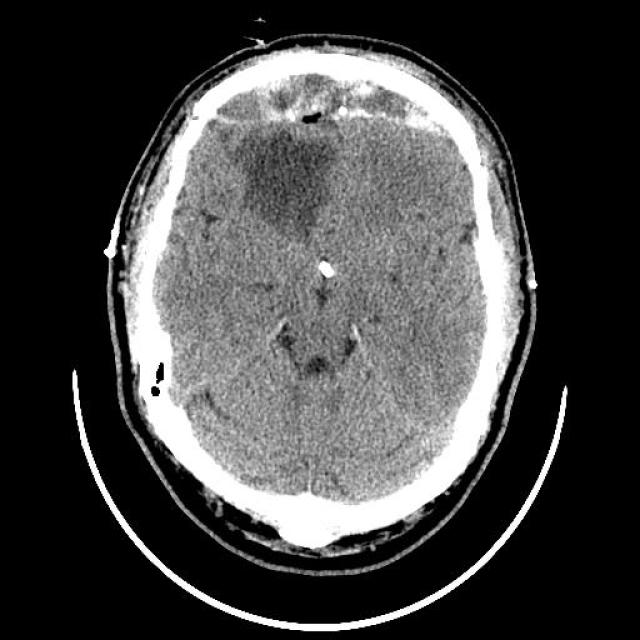Subdural: (190, 54, 484, 138)
